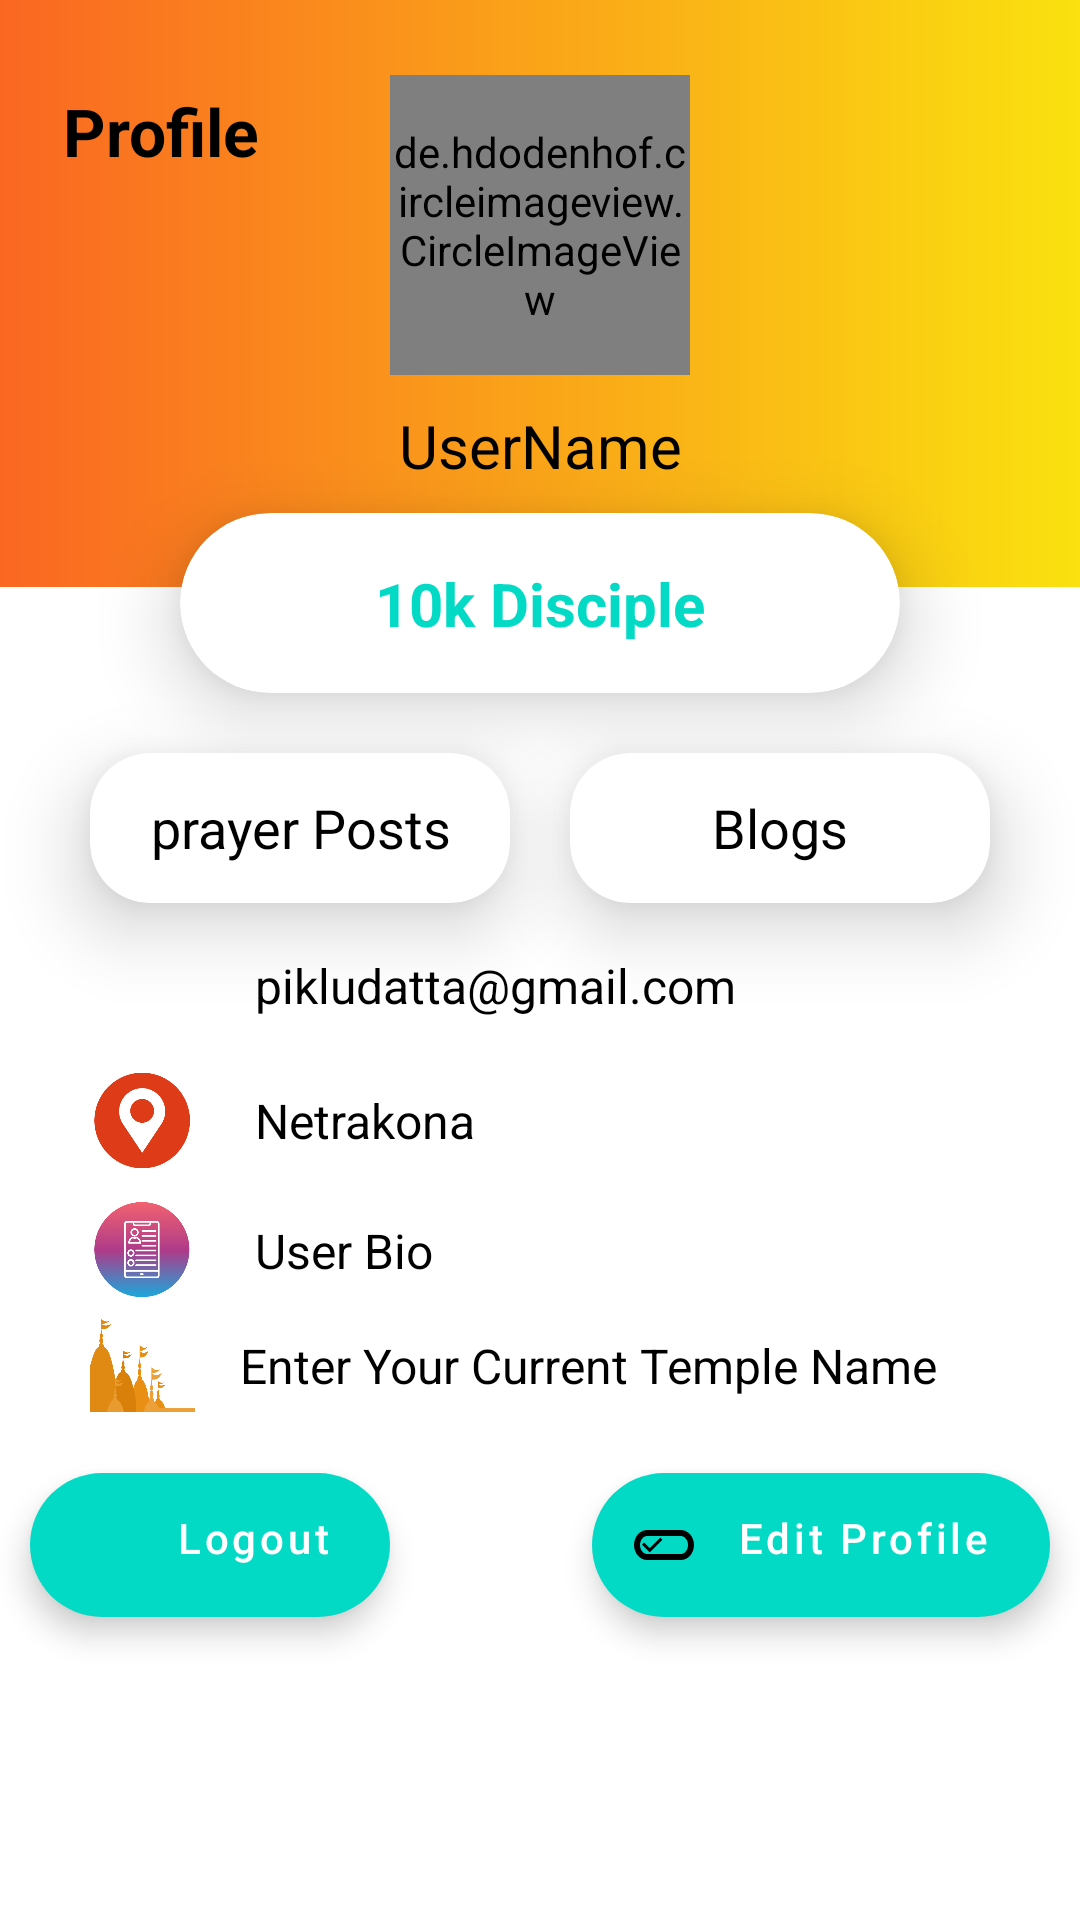

Where to tap for icons on this 1080x1920 app screen, as [x,y]:
location: [142,1120]
